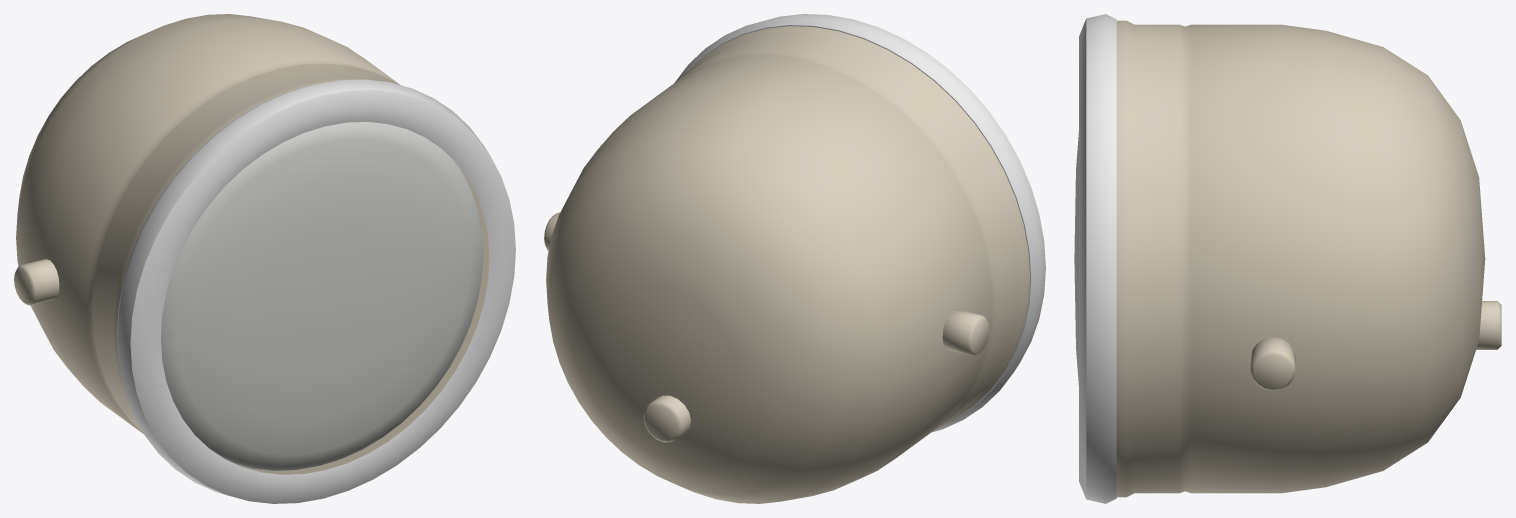
File: Kit_EmergencyTwinHead_Lamp.fbx
The picture shows the model from 3 angles, left to right: view 1: azimuth 30°, elevation 25°; view 2: azimuth 150°, elevation 25°; view 3: azimuth 270°, elevation 25°; orthographic projection. The views are drawn at different scales.
Parts seen in each view (by area): view 1: Kit_EmergencyTwinHead_Lamp; view 2: Kit_EmergencyTwinHead_Lamp; view 3: Kit_EmergencyTwinHead_Lamp.
Part boxes in pixels (bbox=[...]): Kit_EmergencyTwinHead_Lamp: bbox=[14, 14, 515, 503]; Kit_EmergencyTwinHead_Lamp: bbox=[544, 14, 1045, 503]; Kit_EmergencyTwinHead_Lamp: bbox=[1074, 14, 1501, 503].
Bounding box in the file's own units: 0.131 × 0.1202 × 0.1047.
